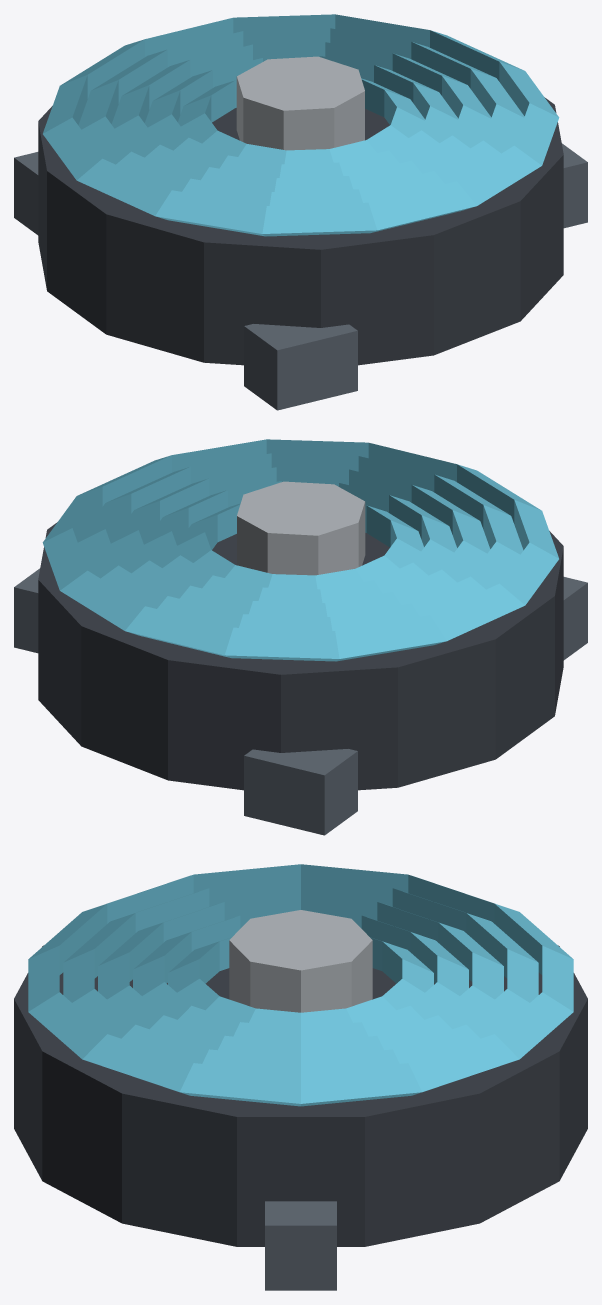
File: droid-repulsor-lifts-exceptional.glb
The picture shows the model from 3 angles, top to bottom: view 1: azimuth 30°, elevation 25°; view 2: azimuth 150°, elevation 25°; view 3: azimuth 270°, elevation 25°; orthographic projection. The views are drawn at different scales.
Visible parts, largest first — view 1: m; view 2: m; view 3: m.
Boxes of the visible parts, x1=… form: m: x1=14, y1=14, x2=587, y2=410; m: x1=14, y1=439, x2=587, y2=835; m: x1=14, y1=864, x2=587, y2=1290.
Size of the model in its own units: 0.1 by 0.0372 by 0.093.
